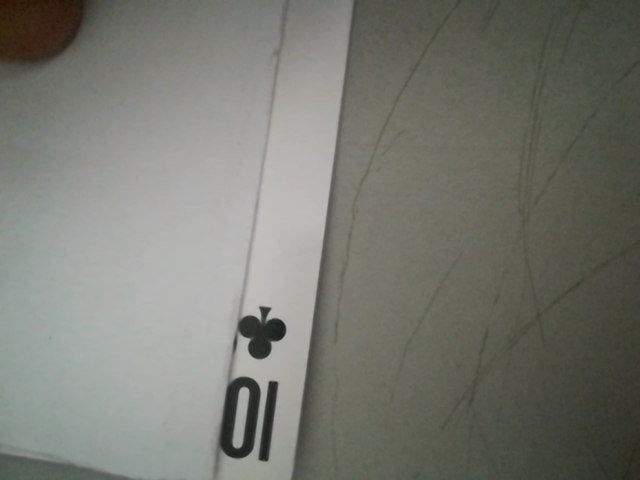mh 10: (210, 295, 305, 474)
